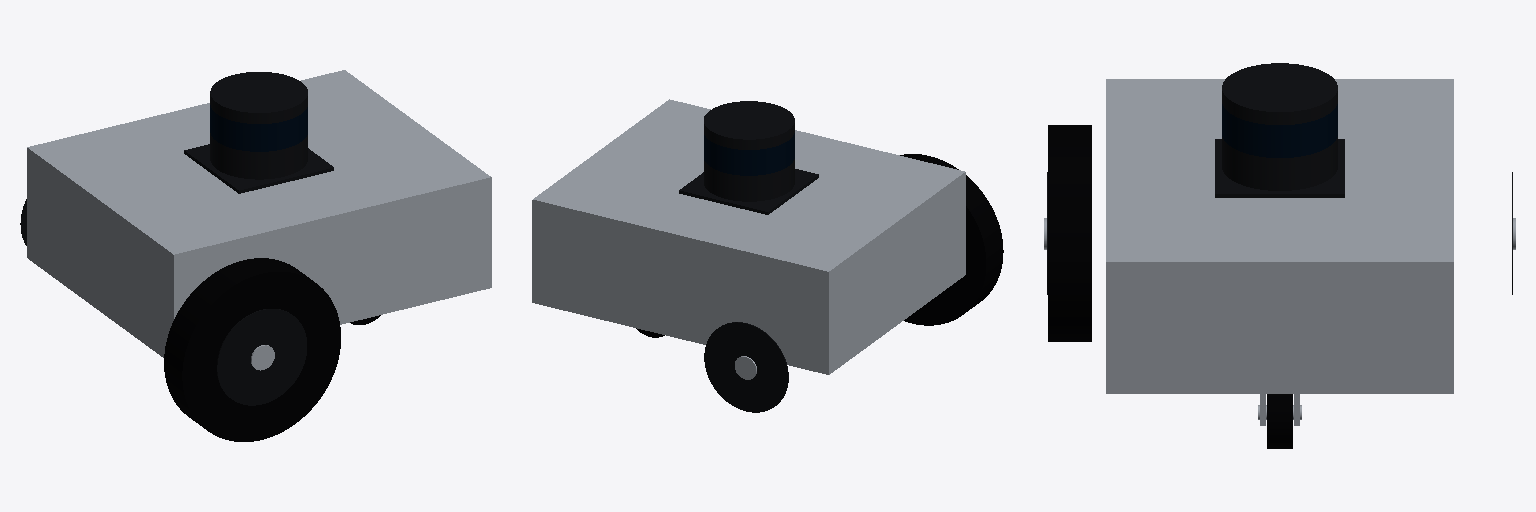
The robot description file, URDF, robot "differential_drive_robot":
<?xml version='1.0' encoding='utf-8'?>
<robot name="differential_drive_robot">
  <!--SI units. base_link: drive axle centre. lidar_link: optical scan centre. Visual STL vertices are already in metres and link-local coordinates.-->
  <material name="silver">
    <color rgba="0.65 0.67 0.70 1" />
  </material>
  <material name="rubber">
    <color rgba="0.035 0.035 0.04 1" />
  </material>
  <material name="black">
    <color rgba="0.09 0.095 0.105 1" />
  </material>
  <material name="window">
    <color rgba="0.025 0.075 0.13 1" />
  </material>
  <link name="base_link">
    <visual name="base_link_chassis_enclosure">
      <origin xyz="0 0 0" rpy="0 0 0" />
      <geometry>
        <mesh filename="package://differential_drive_robot_description/meshes/base_link_chassis_enclosure.stl" scale="1 1 1" />
      </geometry>
      <material name="silver" />
    </visual>
    <collision name="chassis_collision">
      <origin xyz="0.09 0 0.04" rpy="0 0 0" />
      <geometry>
        <box size="0.3 0.24 0.1" />
      </geometry>
    </collision>
    <inertial>
      <origin xyz="0.09 0 0.0275" rpy="0 0 0" />
      <mass value="4" />
      <inertia ixx="0.0206002861959" ixy="0" ixz="0" iyy="0.0289253875086" iyz="0" izz="0.0406867350159" />
    </inertial>
  </link>
  <link name="left_wheel_link">
    <visual name="left_wheel_link_rubber_wheel">
      <origin xyz="0 0 0" rpy="0 0 0" />
      <geometry>
        <mesh filename="package://differential_drive_robot_description/meshes/left_wheel_link_rubber_wheel.stl" scale="1 1 1" />
      </geometry>
      <material name="rubber" />
    </visual>
    <visual name="left_wheel_link_outer_hub">
      <origin xyz="0 0 0" rpy="0 0 0" />
      <geometry>
        <mesh filename="package://differential_drive_robot_description/meshes/left_wheel_link_outer_hub.stl" scale="1 1 1" />
      </geometry>
      <material name="black" />
    </visual>
    <visual name="left_wheel_link_axle_cap">
      <origin xyz="0 0 0" rpy="0 0 0" />
      <geometry>
        <mesh filename="package://differential_drive_robot_description/meshes/left_wheel_link_axle_cap.stl" scale="1 1 1" />
      </geometry>
      <material name="silver" />
    </visual>
    <collision name="wheel_collision">
      <origin xyz="0 0 0" rpy="1.570796327 0 0" />
      <geometry>
        <cylinder radius="0.075" length="0.03" />
      </geometry>
    </collision>
    <inertial>
      <origin xyz="0 0 0" rpy="0 0 0" />
      <mass value="0.35" />
      <inertia ixx="0.0005184375" ixy="0" ixz="0" iyy="0.000984375" iyz="0" izz="0.0005184375" />
    </inertial>
  </link>
  <link name="right_wheel_link">
    <visual name="right_wheel_link_rubber_wheel">
      <origin xyz="0 0 0" rpy="0 0 0" />
      <geometry>
        <mesh filename="package://differential_drive_robot_description/meshes/right_wheel_link_rubber_wheel.stl" scale="1 1 1" />
      </geometry>
      <material name="rubber" />
    </visual>
    <visual name="right_wheel_link_outer_hub">
      <origin xyz="0 0 0" rpy="0 0 0" />
      <geometry>
        <mesh filename="package://differential_drive_robot_description/meshes/right_wheel_link_outer_hub.stl" scale="1 1 1" />
      </geometry>
      <material name="black" />
    </visual>
    <visual name="right_wheel_link_axle_cap">
      <origin xyz="0 0 0" rpy="0 0 0" />
      <geometry>
        <mesh filename="package://differential_drive_robot_description/meshes/right_wheel_link_axle_cap.stl" scale="1 1 1" />
      </geometry>
      <material name="silver" />
    </visual>
    <collision name="wheel_collision">
      <origin xyz="0 0 0" rpy="1.570796327 0 0" />
      <geometry>
        <cylinder radius="0.075" length="0.03" />
      </geometry>
    </collision>
    <inertial>
      <origin xyz="0 0 0" rpy="0 0 0" />
      <mass value="0.35" />
      <inertia ixx="0.0005184375" ixy="0" ixz="0" iyy="0.000984375" iyz="0" izz="0.0005184375" />
    </inertial>
  </link>
  <link name="caster_fork_link">
    <visual name="caster_fork_link_swivel_plate">
      <origin xyz="0 0 0" rpy="0 0 0" />
      <geometry>
        <mesh filename="package://differential_drive_robot_description/meshes/caster_fork_link_swivel_plate.stl" scale="1 1 1" />
      </geometry>
      <material name="silver" />
    </visual>
    <visual name="caster_fork_link_fork_left">
      <origin xyz="0 0 0" rpy="0 0 0" />
      <geometry>
        <mesh filename="package://differential_drive_robot_description/meshes/caster_fork_link_fork_left.stl" scale="1 1 1" />
      </geometry>
      <material name="silver" />
    </visual>
    <visual name="caster_fork_link_fork_right">
      <origin xyz="0 0 0" rpy="0 0 0" />
      <geometry>
        <mesh filename="package://differential_drive_robot_description/meshes/caster_fork_link_fork_right.stl" scale="1 1 1" />
      </geometry>
      <material name="silver" />
    </visual>
    <collision name="swivel_plate_collision">
      <origin xyz="0 0 -0.0015" rpy="0 0 0" />
      <geometry>
        <cylinder radius="0.022" length="0.003" />
      </geometry>
    </collision>
    <collision name="fork_left_collision">
      <origin xyz="-0.0075 0.012 -0.022" rpy="0 0 0" />
      <geometry>
        <box size="0.025 0.004 0.038" />
      </geometry>
    </collision>
    <collision name="fork_right_collision">
      <origin xyz="-0.0075 -0.012 -0.022" rpy="0 0 0" />
      <geometry>
        <box size="0.025 0.004 0.038" />
      </geometry>
    </collision>
    <inertial>
      <origin xyz="-0.005 0 -0.017" rpy="0 0 0" />
      <mass value="0.12" />
      <inertia ixx="3.617e-05" ixy="0" ixz="0" iyy="3.617e-05" iyz="0" izz="3.872e-05" />
    </inertial>
  </link>
  <link name="caster_wheel_link">
    <visual name="caster_wheel_link_caster_tyre">
      <origin xyz="0 0 0" rpy="0 0 0" />
      <geometry>
        <mesh filename="package://differential_drive_robot_description/meshes/caster_wheel_link_caster_tyre.stl" scale="1 1 1" />
      </geometry>
      <material name="rubber" />
    </visual>
    <visual name="caster_wheel_link_caster_axle">
      <origin xyz="0 0 0" rpy="0 0 0" />
      <geometry>
        <mesh filename="package://differential_drive_robot_description/meshes/caster_wheel_link_caster_axle.stl" scale="1 1 1" />
      </geometry>
      <material name="silver" />
    </visual>
    <collision name="caster_collision">
      <origin xyz="0 0 0" rpy="1.570796327 0 0" />
      <geometry>
        <cylinder radius="0.025" length="0.018" />
      </geometry>
    </collision>
    <inertial>
      <origin xyz="0 0 0" rpy="0 0 0" />
      <mass value="0.08" />
      <inertia ixx="1.466e-05" ixy="0" ixz="0" iyy="2.5e-05" iyz="0" izz="1.466e-05" />
    </inertial>
  </link>
  <link name="lidar_link">
    <visual name="lidar_link_lidar_mount">
      <origin xyz="0 0 0" rpy="0 0 0" />
      <geometry>
        <mesh filename="package://differential_drive_robot_description/meshes/lidar_link_lidar_mount.stl" scale="1 1 1" />
      </geometry>
      <material name="black" />
    </visual>
    <visual name="lidar_link_lidar_lower_housing">
      <origin xyz="0 0 0" rpy="0 0 0" />
      <geometry>
        <mesh filename="package://differential_drive_robot_description/meshes/lidar_link_lidar_lower_housing.stl" scale="1 1 1" />
      </geometry>
      <material name="black" />
    </visual>
    <visual name="lidar_link_lidar_optical_window">
      <origin xyz="0 0 0" rpy="0 0 0" />
      <geometry>
        <mesh filename="package://differential_drive_robot_description/meshes/lidar_link_lidar_optical_window.stl" scale="1 1 1" />
      </geometry>
      <material name="window" />
    </visual>
    <visual name="lidar_link_lidar_cap">
      <origin xyz="0 0 0" rpy="0 0 0" />
      <geometry>
        <mesh filename="package://differential_drive_robot_description/meshes/lidar_link_lidar_cap.stl" scale="1 1 1" />
      </geometry>
      <material name="black" />
    </visual>
    <collision name="housing_collision">
      <origin xyz="0 0 -0.0075" rpy="0 0 0" />
      <geometry>
        <cylinder radius="0.04" length="0.06" />
      </geometry>
    </collision>
    <collision name="mount_collision">
      <origin xyz="0 0 -0.039" rpy="0 0 0" />
      <geometry>
        <box size="0.09 0.09 0.003" />
      </geometry>
    </collision>
    <inertial>
      <origin xyz="0 0 -0.0075" rpy="0 0 0" />
      <mass value="0.2" />
      <inertia ixx="0.00014" ixy="0" ixz="0" iyy="0.00014" iyz="0" izz="0.00016" />
    </inertial>
  </link>
  <link name="imu_link">
    <inertial>
      <mass value="0.02" />
      <inertia ixx="0.000001" ixy="0" ixz="0" iyy="0.000001" iyz="0" izz="0.000001" />
    </inertial>
  </link>
  <joint name="left_wheel_joint" type="continuous">
    <parent link="base_link" />
    <child link="left_wheel_link" />
    <origin xyz="0 0.145 0" rpy="0 0 0" />
    <axis xyz="0 1 0" />
    <limit effort="2.0" velocity="20" />
    <dynamics damping="0.001" friction="0" />
  </joint>
  <joint name="right_wheel_joint" type="continuous">
    <parent link="base_link" />
    <child link="right_wheel_link" />
    <origin xyz="0 -0.145 0" rpy="0 0 0" />
    <axis xyz="0 1 0" />
    <limit effort="2.0" velocity="20" />
    <dynamics damping="0.001" friction="0" />
  </joint>
  <joint name="caster_swivel_joint" type="continuous">
    <parent link="base_link" />
    <child link="caster_fork_link" />
    <origin xyz="0.2 0 -0.01" rpy="0 0 0" />
    <axis xyz="0 0 1" />
    <limit effort="0.3" velocity="100" />
    <dynamics damping="0.0001" friction="0" />
  </joint>
  <joint name="caster_wheel_joint" type="continuous">
    <parent link="caster_fork_link" />
    <child link="caster_wheel_link" />
    <origin xyz="-0.015 0 -0.04" rpy="0 0 0" />
    <axis xyz="0 1 0" />
    <limit effort="0.3" velocity="100" />
    <dynamics damping="0.0001" friction="0" />
  </joint>
  <joint name="lidar_joint" type="fixed">
    <parent link="base_link" />
    <child link="lidar_link" />
    <origin xyz="0.09 0 0.1305" rpy="0 0 0" />
  </joint>
  <joint name="imu_joint" type="fixed">
    <parent link="base_link" />
    <child link="imu_link" />
    <origin xyz="0.09 0 0.08" rpy="0 0 0" />
  </joint>
  <gazebo reference="base_link">
    <selfCollide>false</selfCollide>
  </gazebo>
  <gazebo reference="left_wheel_link">
    <selfCollide>false</selfCollide>
    <mu1>1.0</mu1>
    <mu2>1.0</mu2>
  </gazebo>
  <gazebo reference="right_wheel_link">
    <selfCollide>false</selfCollide>
    <mu1>1.0</mu1>
    <mu2>1.0</mu2>
  </gazebo>
  <gazebo reference="caster_fork_link">
    <selfCollide>false</selfCollide>
  </gazebo>
  <gazebo reference="caster_wheel_link">
    <selfCollide>false</selfCollide>
    <mu1>0.8</mu1>
    <mu2>0.8</mu2>
  </gazebo>
  <gazebo reference="lidar_link">
    <selfCollide>false</selfCollide>
  </gazebo>
  <gazebo reference="lidar_joint">
    <preserveFixedJoint>true</preserveFixedJoint>
  </gazebo>
  <gazebo>
    <plugin filename="gz-sim-diff-drive-system" name="gz::sim::systems::DiffDrive">
      <left_joint>left_wheel_joint</left_joint>
      <right_joint>right_wheel_joint</right_joint>
      <wheel_separation>.29</wheel_separation>
      <wheel_radius>.075</wheel_radius>
      <topic>/cmd_vel</topic>
      <odom_topic>/odom</odom_topic>
      <tf_topic>/tf</tf_topic>
      <frame_id>odom</frame_id>
      <child_frame_id>base_link</child_frame_id>
      <odom_publish_frequency>50</odom_publish_frequency>
      <min_linear_velocity>-0.5</min_linear_velocity>
      <max_linear_velocity>0.5</max_linear_velocity>
      <min_angular_velocity>-1.5</min_angular_velocity>
      <max_angular_velocity>1.5</max_angular_velocity>
      <min_linear_acceleration>-0.5</min_linear_acceleration>
      <max_linear_acceleration>0.5</max_linear_acceleration>
      <min_angular_acceleration>-1.5</min_angular_acceleration>
      <max_angular_acceleration>1.5</max_angular_acceleration>
    </plugin>
    <plugin filename="gz-sim-joint-state-publisher-system" name="gz::sim::systems::JointStatePublisher">
      <topic>/joint_states</topic>
      <update_rate>50</update_rate>
      <joint_name>left_wheel_joint</joint_name>
      <joint_name>right_wheel_joint</joint_name>
      <joint_name>caster_swivel_joint</joint_name>
      <joint_name>caster_wheel_joint</joint_name>
    </plugin>
  </gazebo>
  <gazebo reference="lidar_link">
    <sensor name="lidar" type="gpu_lidar">
      <pose>0 0 0 0 0 0</pose>
      <always_on>true</always_on>
      <update_rate>10</update_rate>
      <visualize>false</visualize>
      <topic>/scan</topic>
      <gz_frame_id>lidar_link</gz_frame_id>
      <lidar>
        <scan>
          <horizontal>
            <samples>360</samples>
            <resolution>1</resolution>
            <min_angle>-3.141592653589793</min_angle>
            <max_angle>3.12413936106985</max_angle>
          </horizontal>
        </scan>
        <range>
          <min>.12</min>
          <max>10</max>
          <resolution>.01</resolution>
        </range>
        <noise type="gaussian">
          <mean>0</mean>
          <stddev>.005</stddev>
        </noise>
      </lidar>
    </sensor>
  </gazebo>
  <gazebo reference="imu_link">
    <sensor name="imu" type="imu">
      <always_on>true</always_on>
      <update_rate>100</update_rate>
      <topic>/imu/data</topic>
      <gz_frame_id>imu_link</gz_frame_id>
      <imu>
        <angular_velocity>
          <x><noise type="gaussian"><mean>0</mean><stddev>0.0002</stddev></noise></x>
          <y><noise type="gaussian"><mean>0</mean><stddev>0.0002</stddev></noise></y>
          <z><noise type="gaussian"><mean>0</mean><stddev>0.0002</stddev></noise></z>
        </angular_velocity>
        <linear_acceleration>
          <x><noise type="gaussian"><mean>0</mean><stddev>0.017</stddev></noise></x>
          <y><noise type="gaussian"><mean>0</mean><stddev>0.017</stddev></noise></y>
          <z><noise type="gaussian"><mean>0</mean><stddev>0.017</stddev></noise></z>
        </linear_acceleration>
      </imu>
    </sensor>
  </gazebo>
  <gazebo reference="base_link">
    <sensor name="base_contact" type="contact">
      <always_on>true</always_on>
      <update_rate>50</update_rate>
      <contact><collision>chassis_collision</collision><topic>/robot_contacts</topic></contact>
    </sensor>
  </gazebo>
</robot>

--- Render facts (derived) ---
Views: 3 orthographic renders of the robot side by side, from view 1: azimuth 30°, elevation 25°; view 2: azimuth 150°, elevation 25°; view 3: azimuth 270°, elevation 25°.
Robot: differential_drive_robot — 7 links, 6 joints (4 continuous, 2 fixed); root link base_link; default pose: every joint at zero.
Visible links, largest first — view 1: base_link, right_wheel_link, lidar_link; view 2: base_link, lidar_link, left_wheel_link, right_wheel_link; view 3: base_link, lidar_link, right_wheel_link, caster_wheel_link.
Boxes of the visible links, <box> form: base_link: <box>27,70,491,357</box>; right_wheel_link: <box>164,258,340,441</box>; lidar_link: <box>184,72,333,193</box>; base_link: <box>532,99,965,374</box>; lidar_link: <box>679,101,818,214</box>; left_wheel_link: <box>704,322,788,412</box>; right_wheel_link: <box>900,154,1003,325</box>; base_link: <box>1106,79,1453,393</box>; lidar_link: <box>1215,63,1344,197</box>; right_wheel_link: <box>1044,125,1091,341</box>; caster_wheel_link: <box>1258,394,1301,448</box>.
Size in the robot's own frame: 0.315 by 0.325 by 0.228 metres.
Meshes: 16 distinct files referenced, 15 mesh visuals loaded (15 binary STL); not drawn: 1 (reference not matched to a file when rendering).
